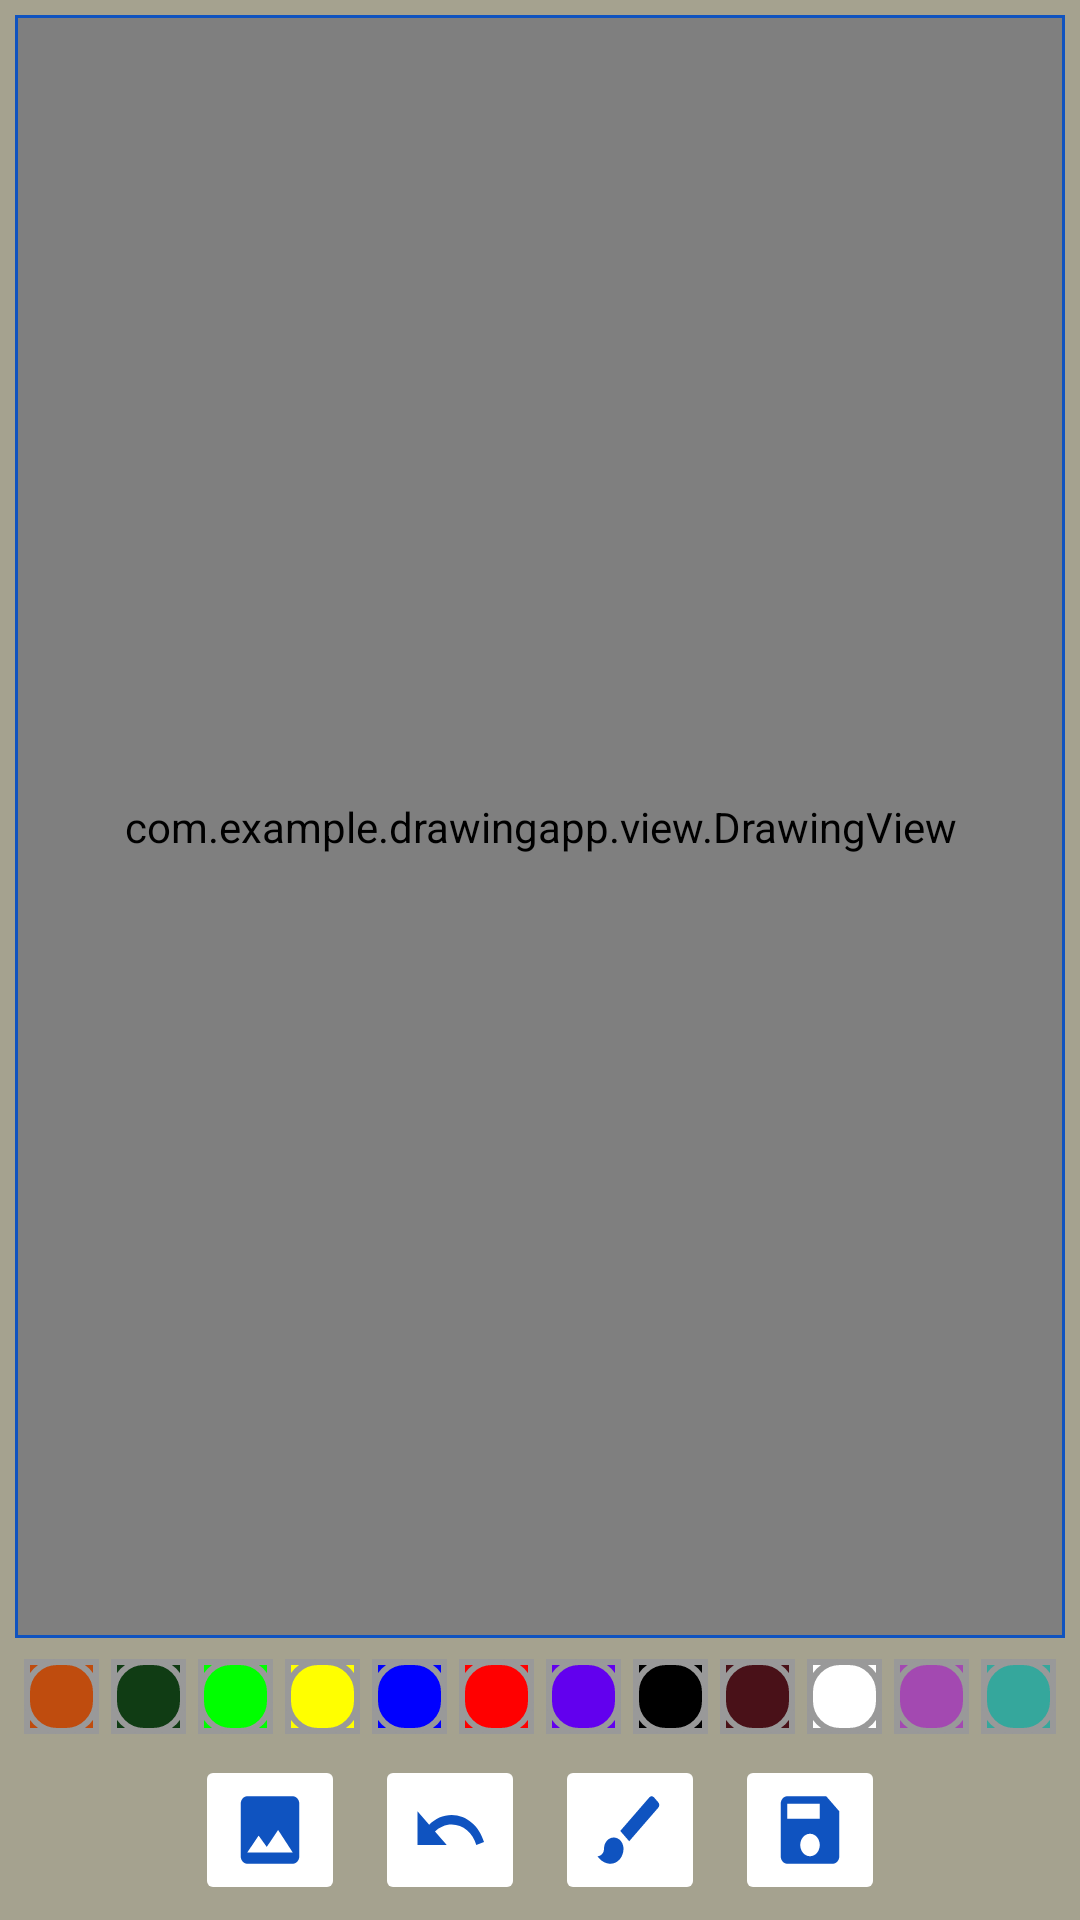

Named icons in this screenshot (1080x1920) and their bounding boxes, (x1, y1, x2, y2):
brush: (567, 1773, 693, 1887)
save: (747, 1773, 873, 1887)
undo: (387, 1773, 513, 1887)
